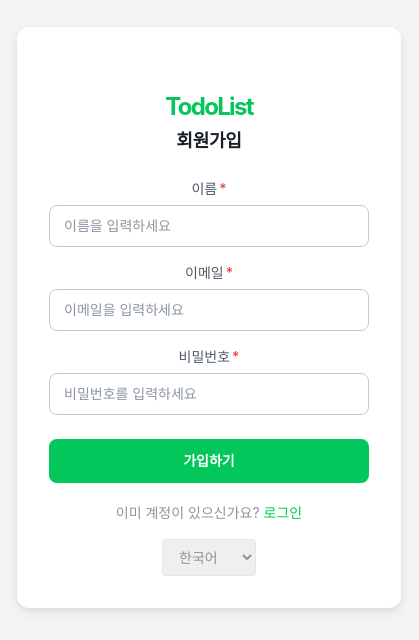
Test: RegisterPage › 폼 유효성 검사 › 이메일 빈 상태로 제출 시 이메일 에러 메시지를 표시한다
The image size is (419, 640).
Type "홍길동" into the field with placeholder "이름을 입력하세요".
click(209, 226); type("홍길동")  # box [49,204,369,246]
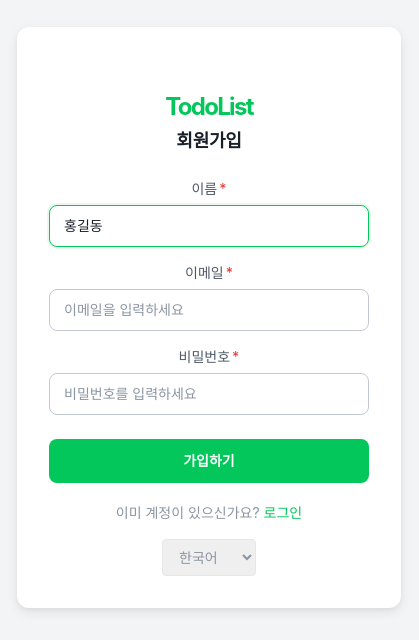
Type "pw" into the password field with placeholder "비밀번호를 입력하세요".
click(209, 394); type("pw")  # box [49,372,369,414]
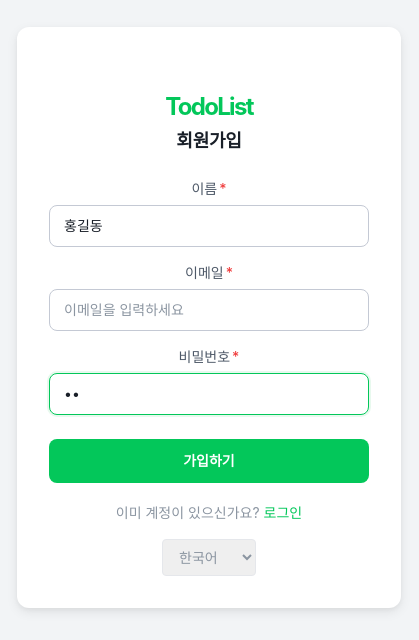
Click the button "가입하기".
click(209, 460)  # box [49,438,369,482]
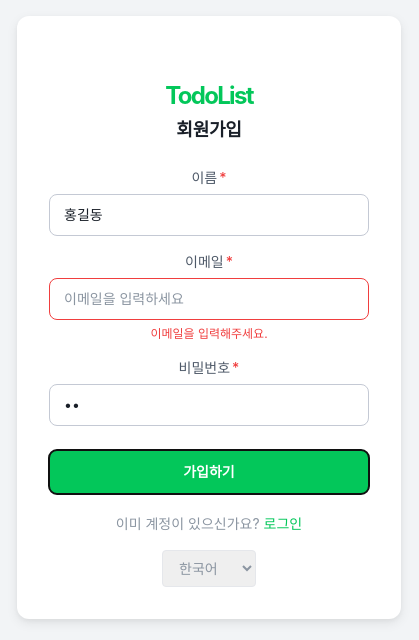
expect the text "이메일을 입력해주세요." is shown: met, box [150,326,268,340]
